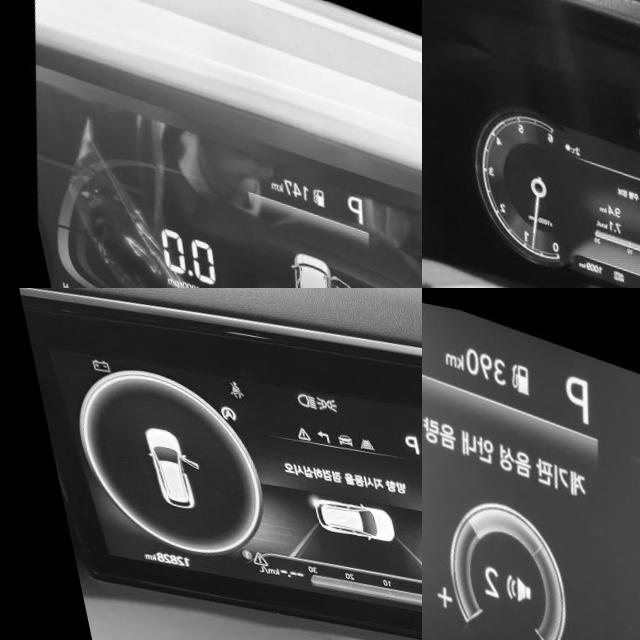Central Warning lamp: (287, 414, 304, 431)
LaneCenteringOff: (349, 423, 368, 439)
Low beam: (289, 380, 310, 399)
SideLamp: (309, 383, 332, 402), (628, 114, 640, 128)
